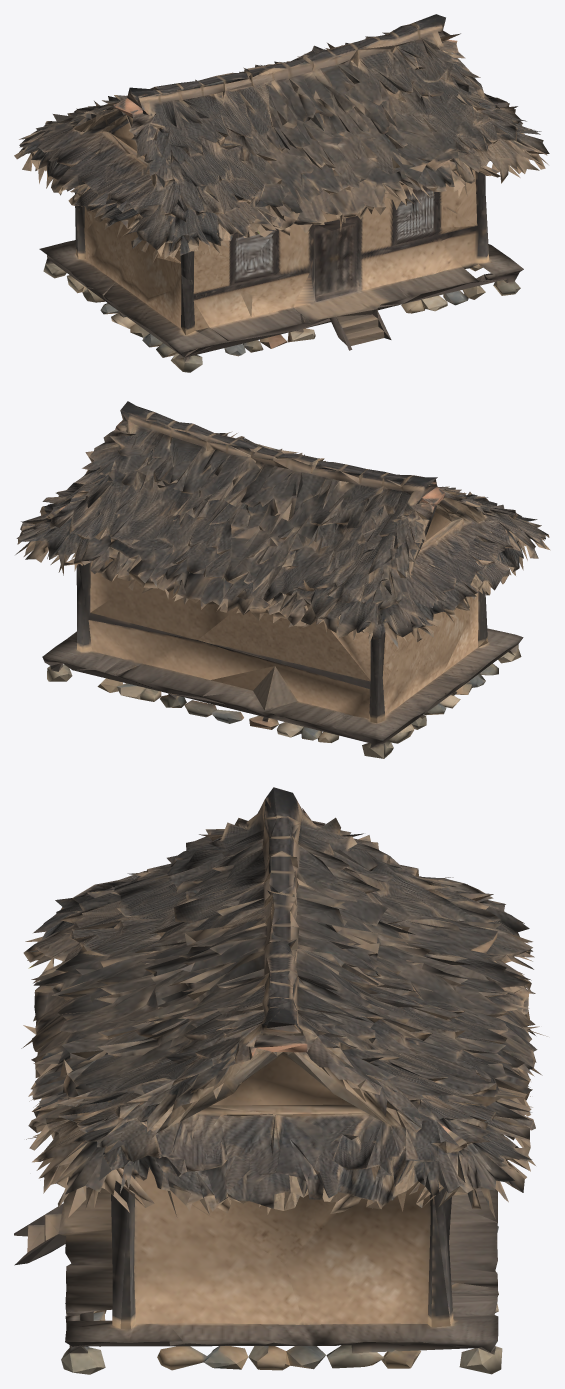
Rendered from choga.glb.
The picture shows the model from 3 angles, top to bottom: view 1: azimuth 30°, elevation 25°; view 2: azimuth 150°, elevation 25°; view 3: azimuth 270°, elevation 25°; orthographic projection. The views are drawn at different scales.
Parts seen in each view (by area): view 1: Mesh_0; view 2: Mesh_0; view 3: Mesh_0.
Part boxes in pixels (left/top/right/bottom): Mesh_0: left=14, top=14, right=549, bottom=372; Mesh_0: left=15, top=401, right=550, bottom=758; Mesh_0: left=14, top=787, right=547, bottom=1374.
Bounding box in the file's own units: 7.73 × 4 × 5.58.
Materials: 1 (1 with a texture image).
